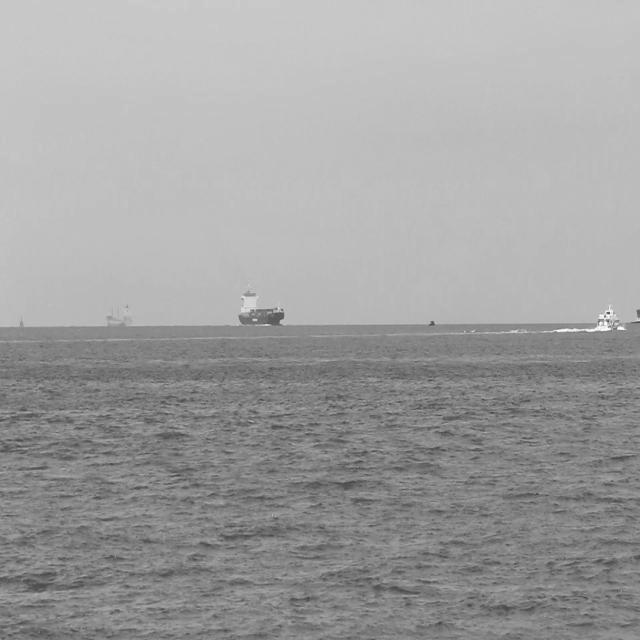ship: (236, 278, 286, 330), (594, 296, 624, 334), (104, 295, 136, 329), (628, 310, 640, 328)
